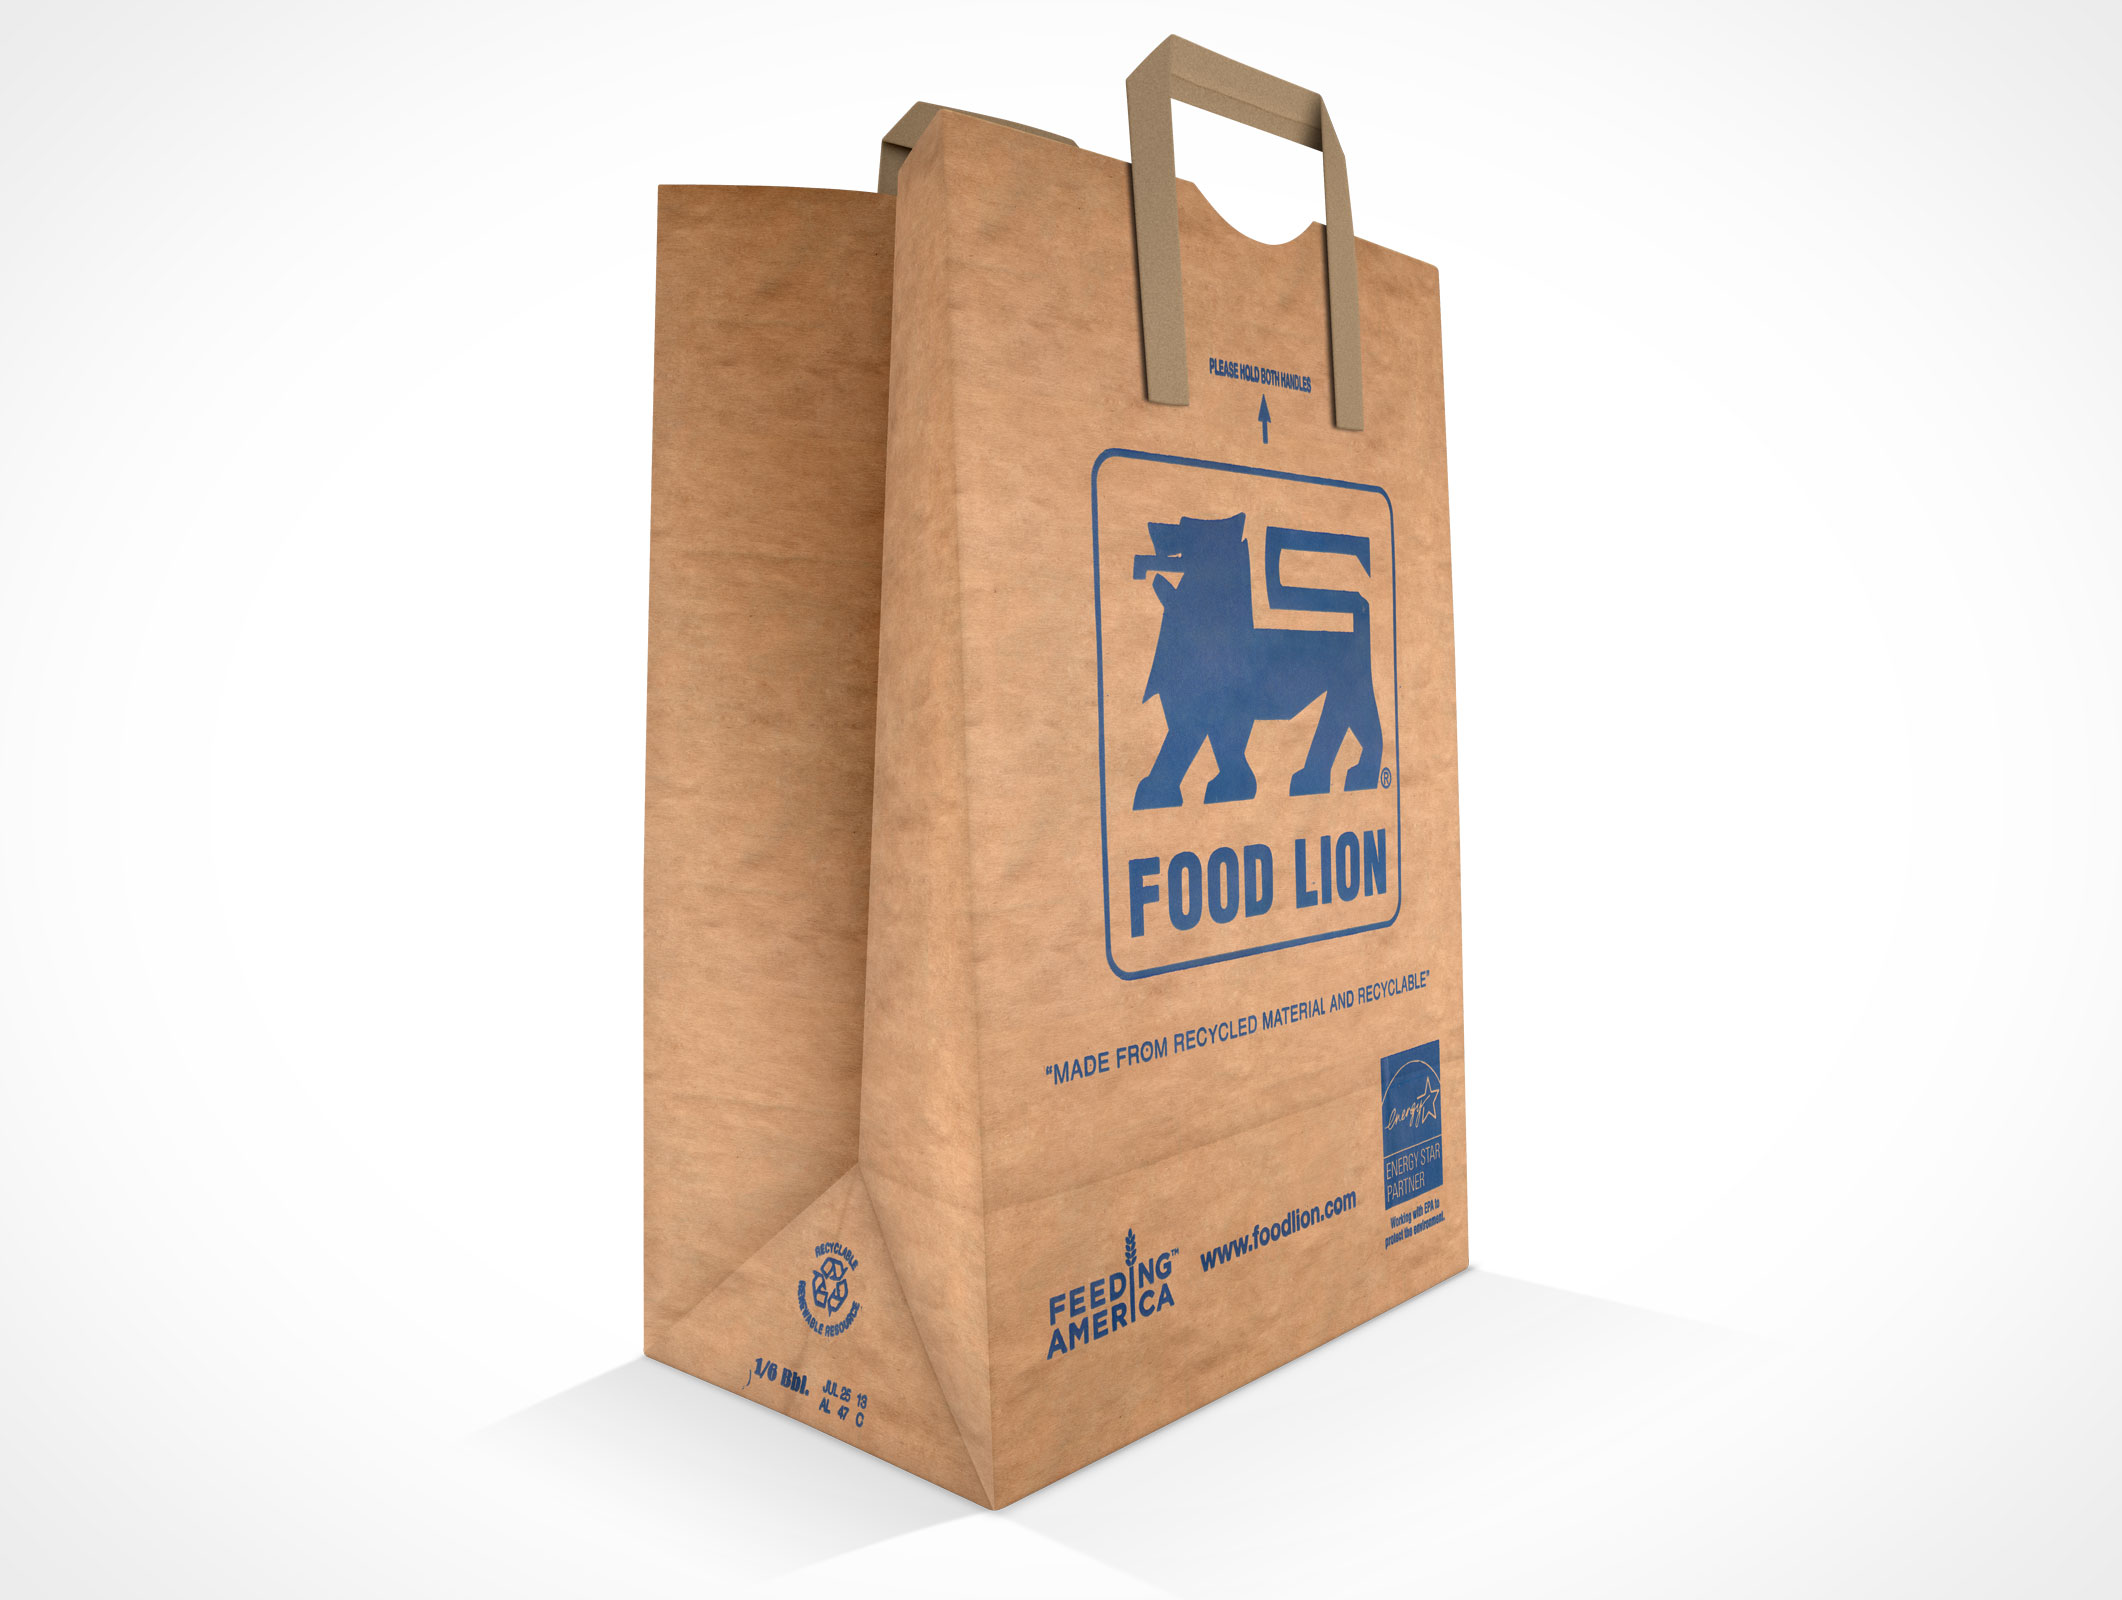Rec_Paper: (514, 2, 1541, 1486)
